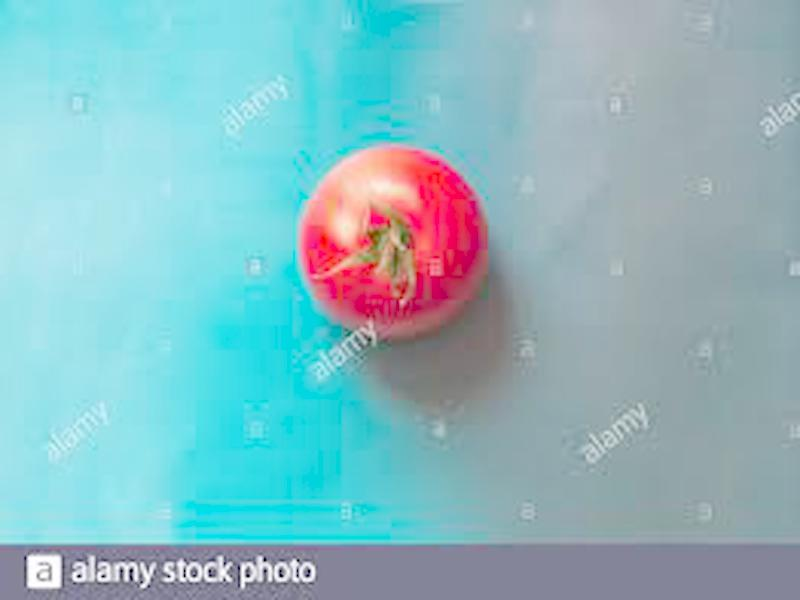Tomato: (299, 144, 485, 338)
